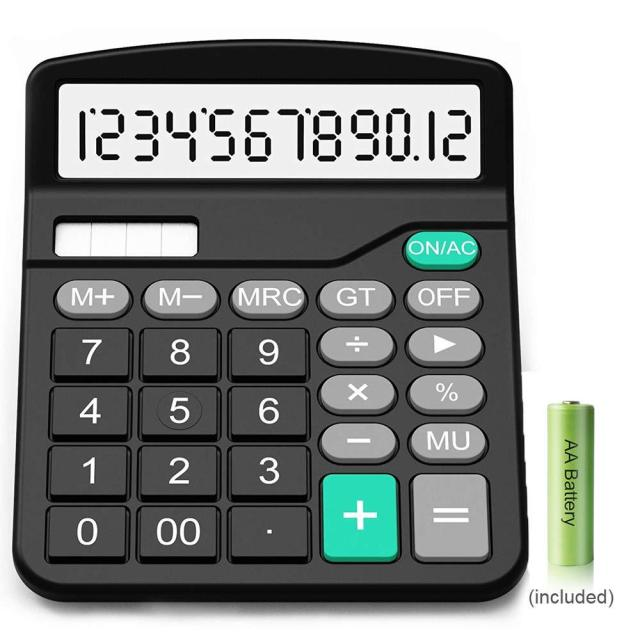Calculator: (0, 28, 533, 608)
